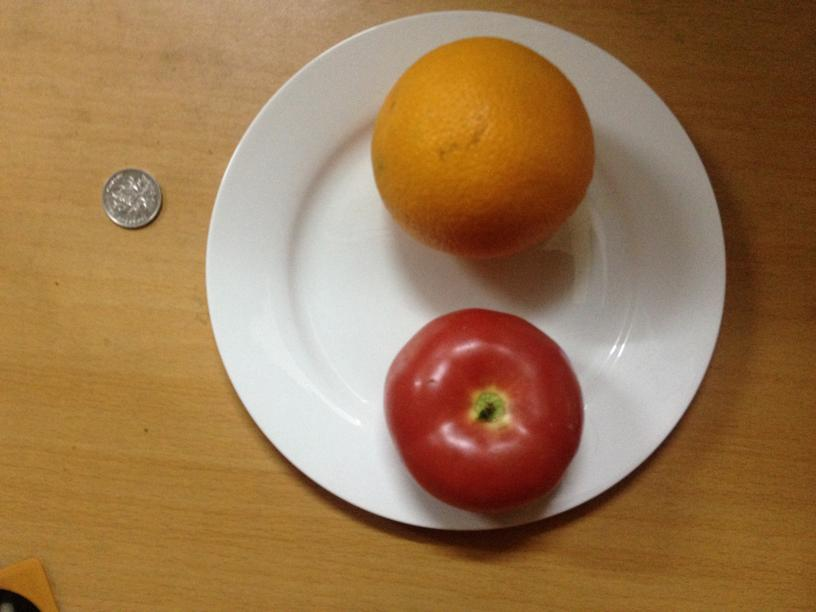coin: (101, 169, 162, 229)
orange: (372, 40, 595, 262)
tomato: (383, 307, 582, 505)
